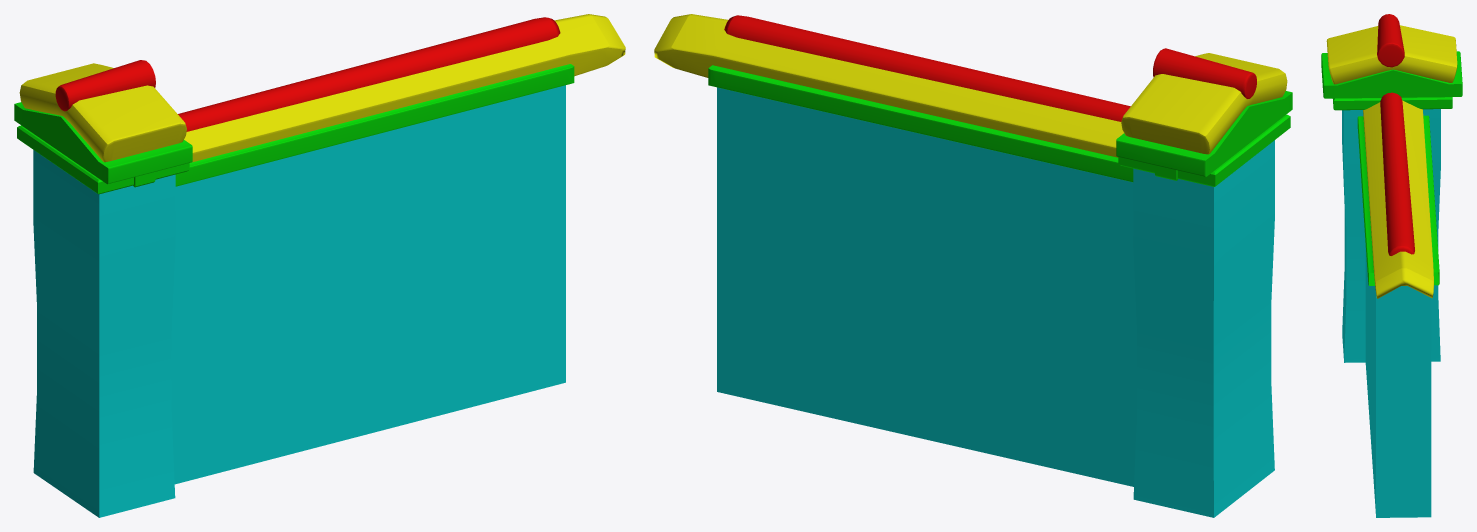
Rendered from smallChurchGate Unity.fbx.
3 renders of one model, left to right at view 1: azimuth 30°, elevation 25°; view 2: azimuth 150°, elevation 25°; view 3: azimuth 270°, elevation 25°, orthographic. The views are drawn at different scales.
Visible parts, largest first — view 1: smallChurchGateUnity; view 2: smallChurchGateUnity; view 3: smallChurchGateUnity.
Boxes of the visible parts, x1,y1,x2,y2 form: smallChurchGateUnity: (14, 14, 625, 517); smallChurchGateUnity: (654, 14, 1292, 517); smallChurchGateUnity: (1321, 14, 1462, 517).
Bounding box in the file's own units: 9.06 × 6.41 × 2.56.
